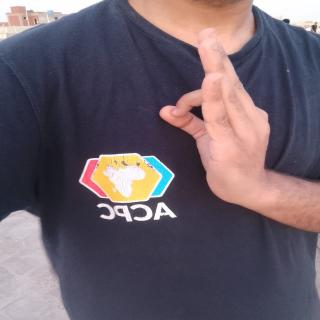Space: (158, 24, 274, 205)
